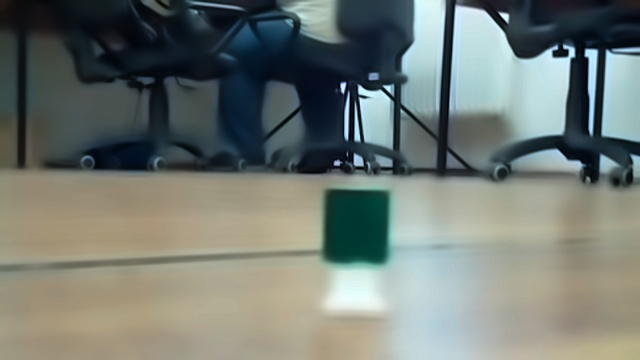rect: (296, 181, 416, 324)
